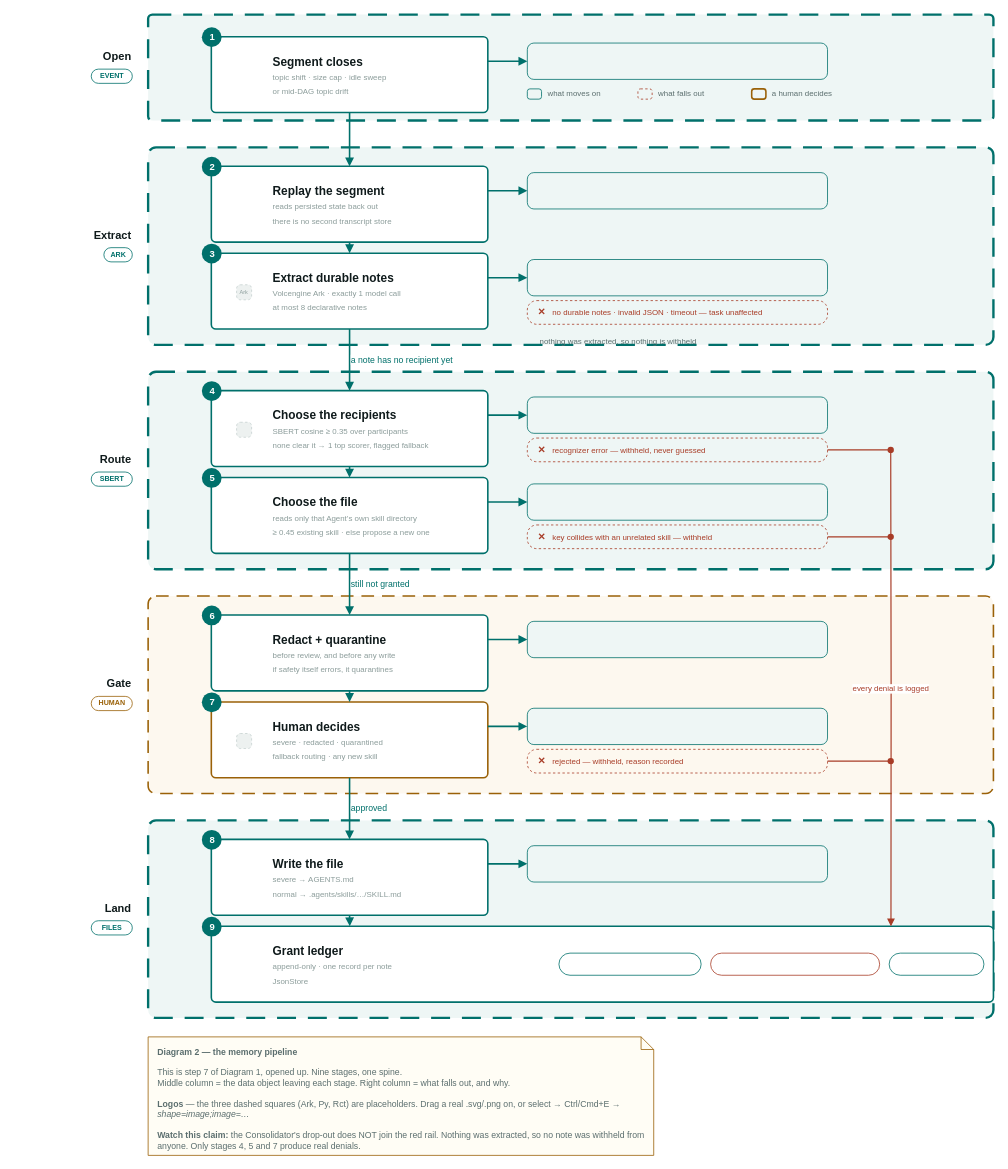
Image size: 1008x1169. Some labels were removed from this diagram. The shapes that lost their labels are listed below. From the top down, each one's centre as x and y in pixels, then its label:
At [677,60]: "segmentId (+ nodeIds) only a closed, unflushed, settled segment qualifies".
At [677,190]: "SegmentBuffer prompts · messages · node outputs · run + span ids".
At [677,277]: "CandidateNote × ≤ 8 content · severity · skillKey · description · citations".
At [244,429]: "Py".
At [677,414]: "+ recipients[] · scores[] · matchKind recognition is the only routing authority".
At [677,501]: "MemorySkillAssignment an existing SKILL.md, or a proposed new one".
At [677,639]: "redacted note + SafetyFinding[] secrets → [REDACTED_SECRET] · never fails open".
At [244,741]: "Rct".
At [677,726]: "active | pending | quarantined approve · edit · reject · revoke".
At [677,863]: "LandedMemoryFile placement IS the grant · exactly one writer".
At [629,963]: "granted to".
At [795,963]: "withheld from + why".
At [936,963]: "human decision".
